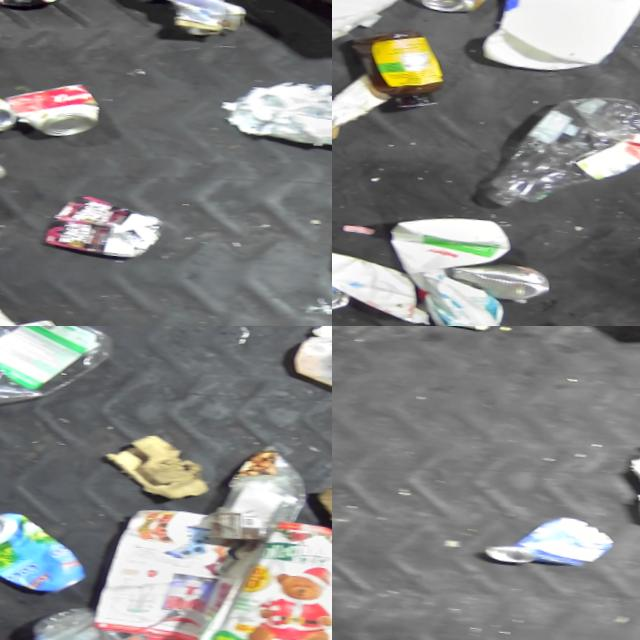can: (0, 501, 88, 601), (2, 72, 103, 141), (0, 0, 73, 11), (0, 88, 17, 134)
non_white_jug: (124, 0, 246, 39)
plastic_bottle: (482, 72, 640, 211), (26, 596, 169, 640)
